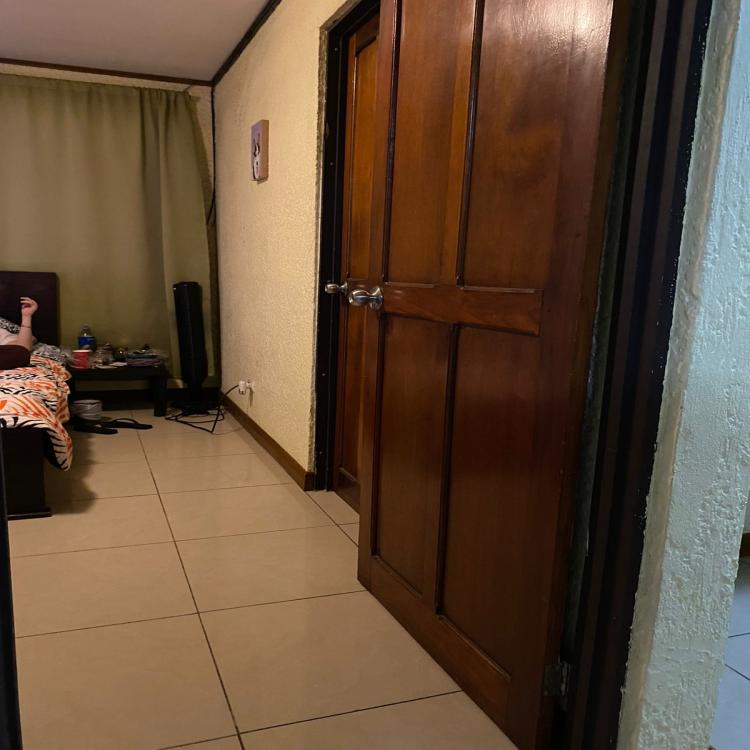ClosedDoor: (369, 0, 636, 747)
